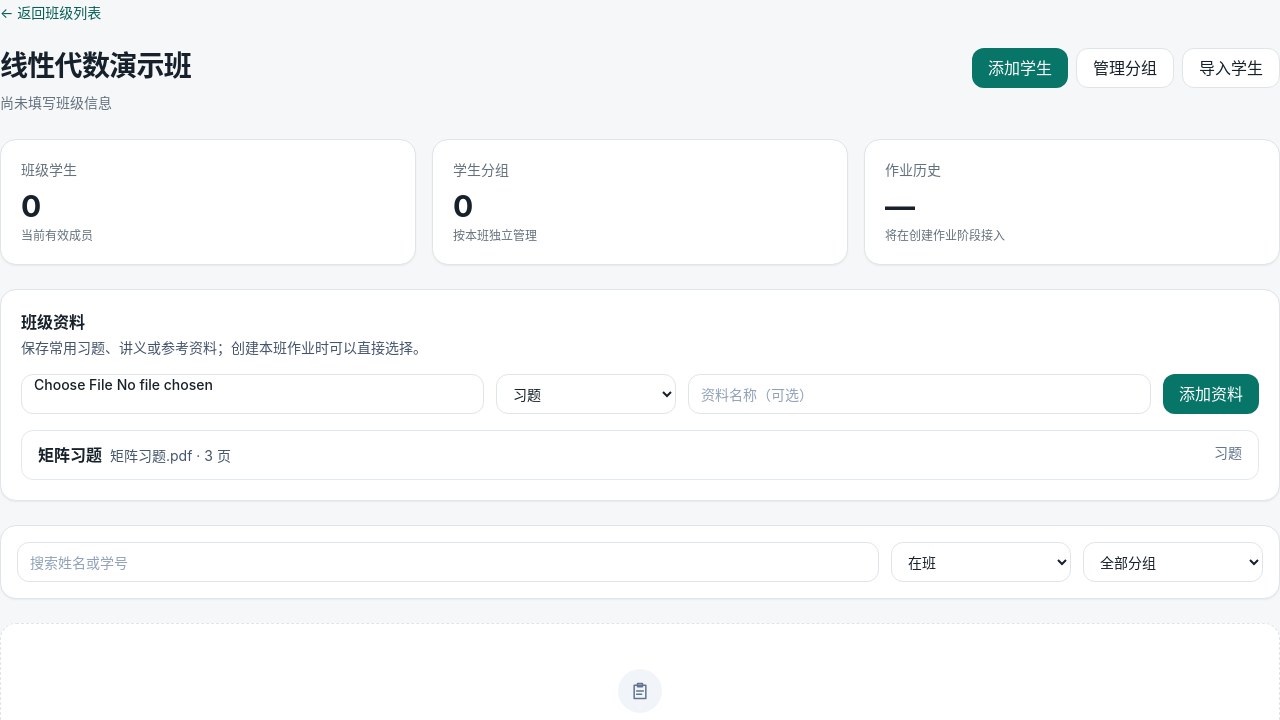
Test: class detail student creation › reports success and closes the dialog after the student is created
Expected: the heading "线性代数演示班" is shown, [0, 48, 191, 85]
Click the button "添加学生" at (1020,68), box [972, 48, 1068, 88]
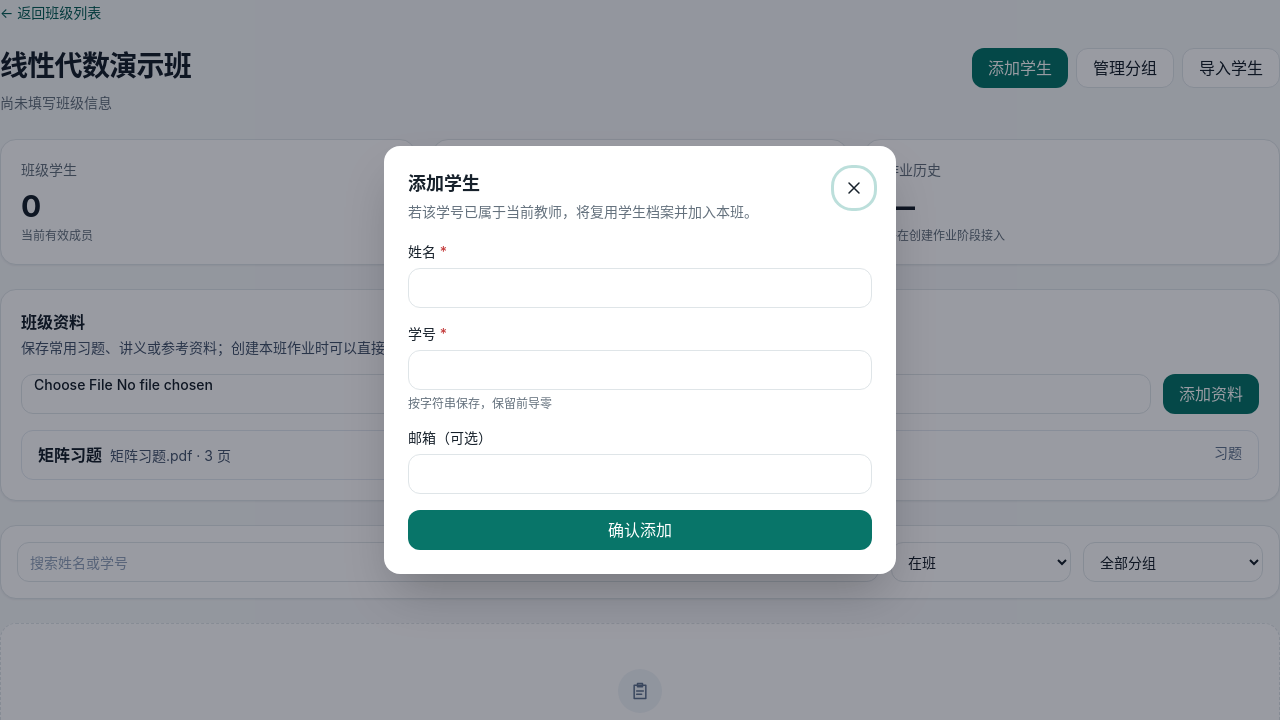
Type "演示学生" into the field labelled "姓名 *" at (640,288), box [408, 268, 872, 308]
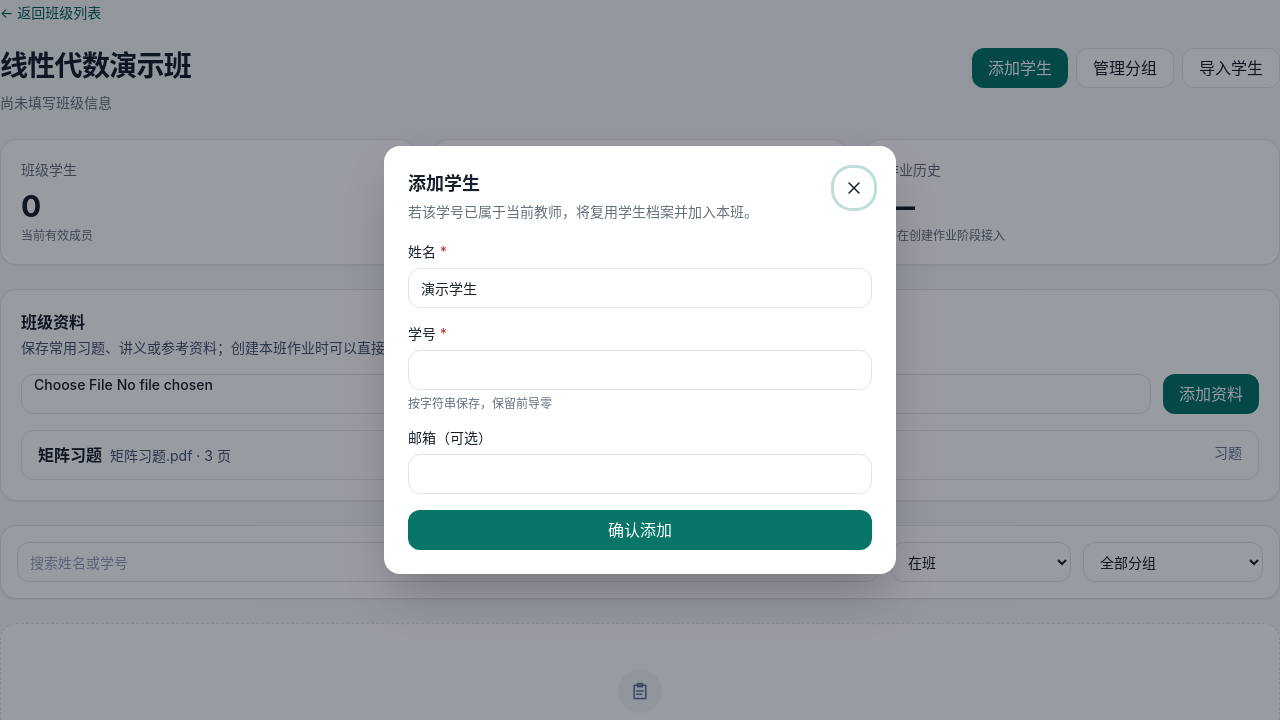
Type "0001" into the field labelled "学号 * 按字符串保存，保留前导零" at (640,370), box [408, 350, 872, 390]
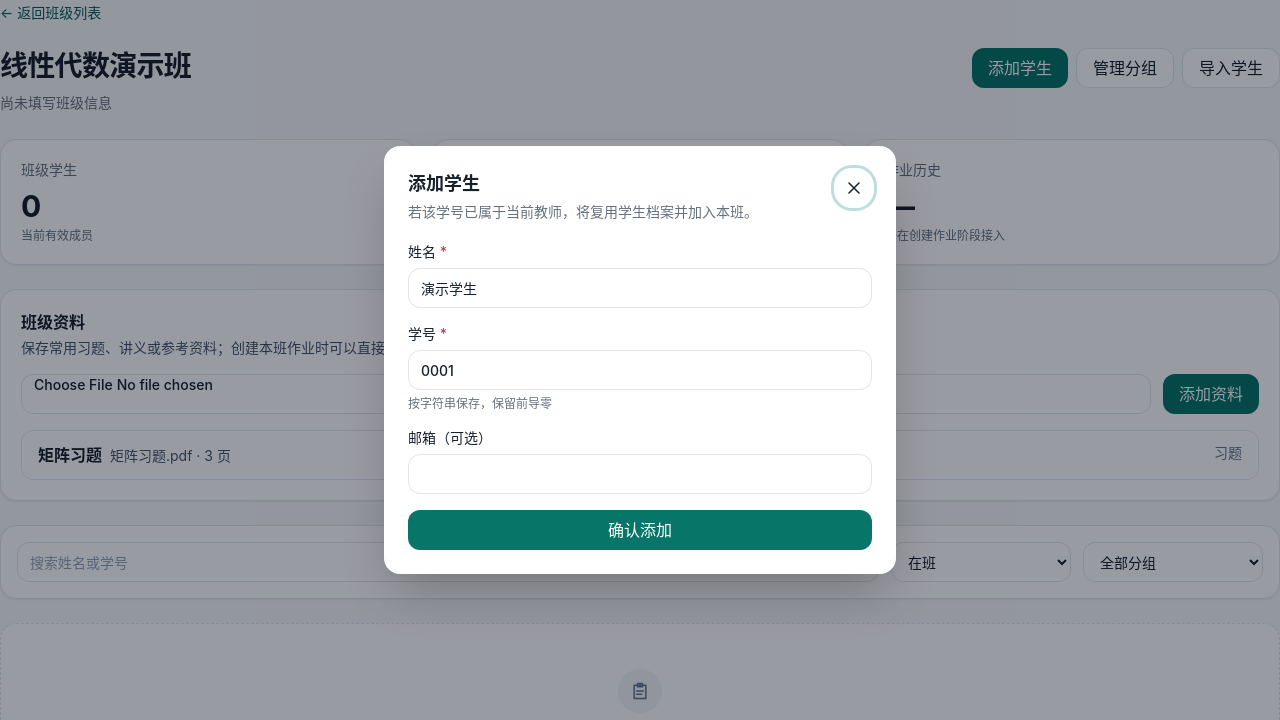
Click the button "确认添加" at (640,530), box [408, 510, 872, 550]
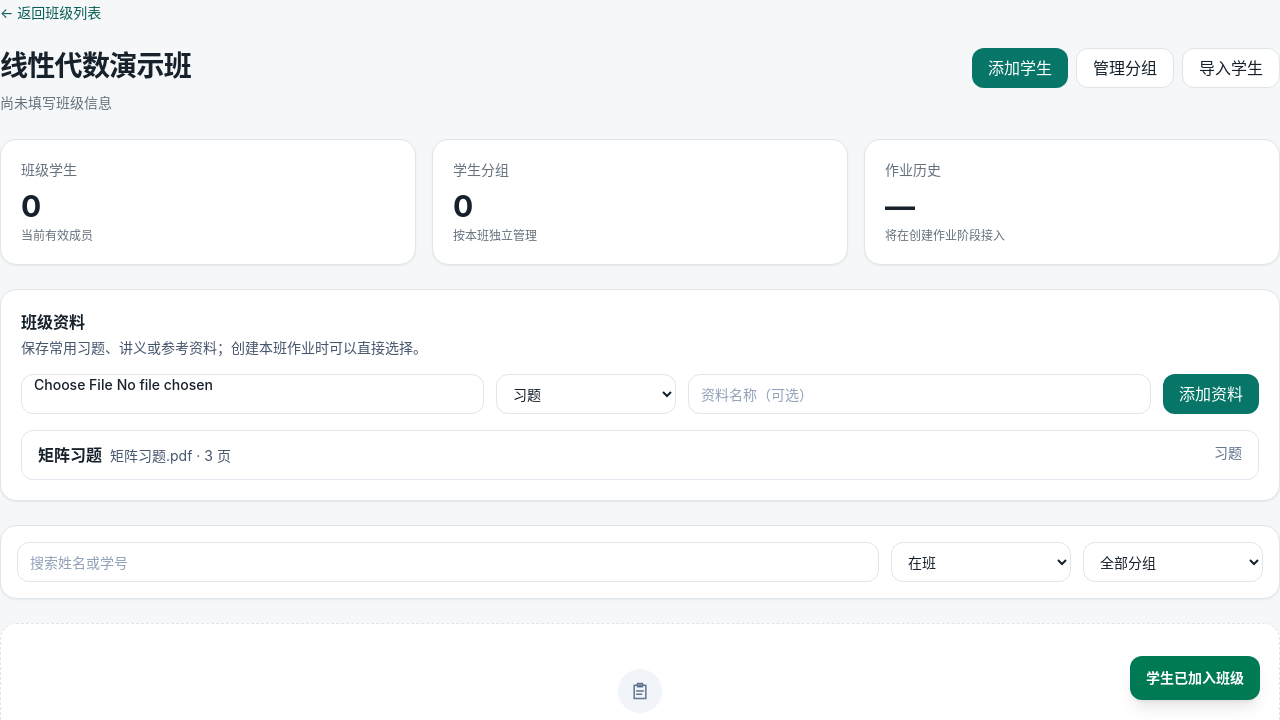
Expected: the text "学生已加入班级" is shown, [1130, 656, 1260, 700]
Expected: the dialog is gone
